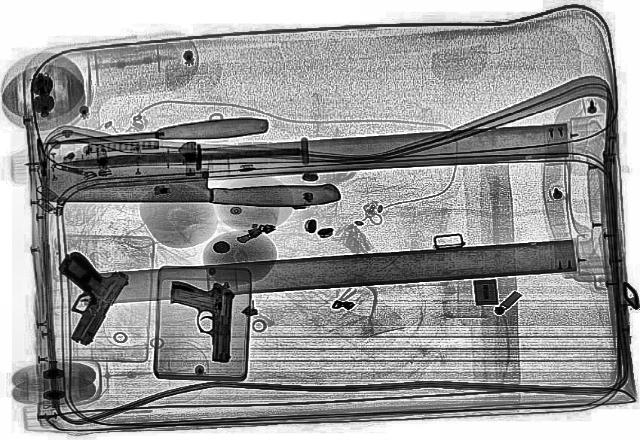Gun: (20, 249, 136, 347), (163, 281, 233, 363)
Knife: (40, 166, 340, 206), (40, 114, 268, 154), (55, 144, 298, 170)
